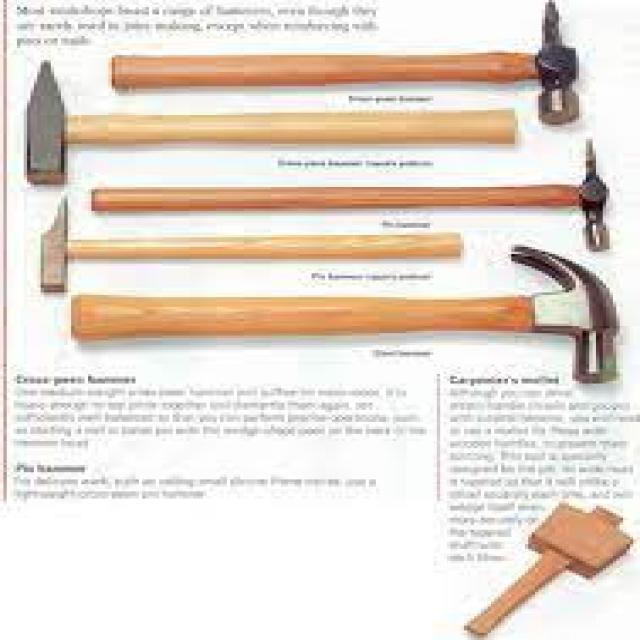hammer: (59, 241, 625, 397), (14, 51, 528, 186), (83, 132, 615, 259), (102, 0, 586, 127), (10, 190, 488, 294)
